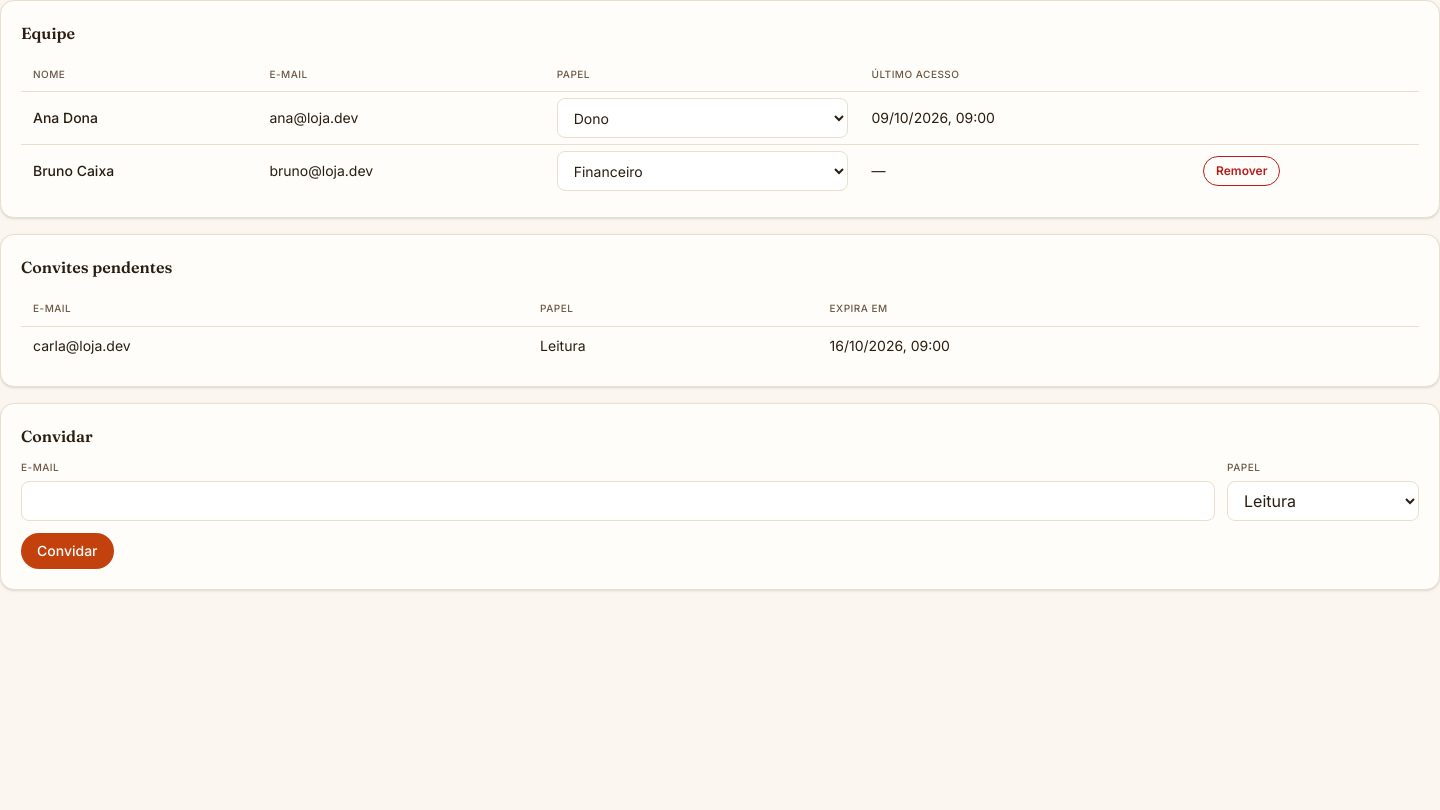
TeamSection › showsLastOwnerAsAnAlert
Select "Leitura" in the dropdown named "Papel de Bruno Caixa" at (702, 171), box [557, 151, 848, 191]
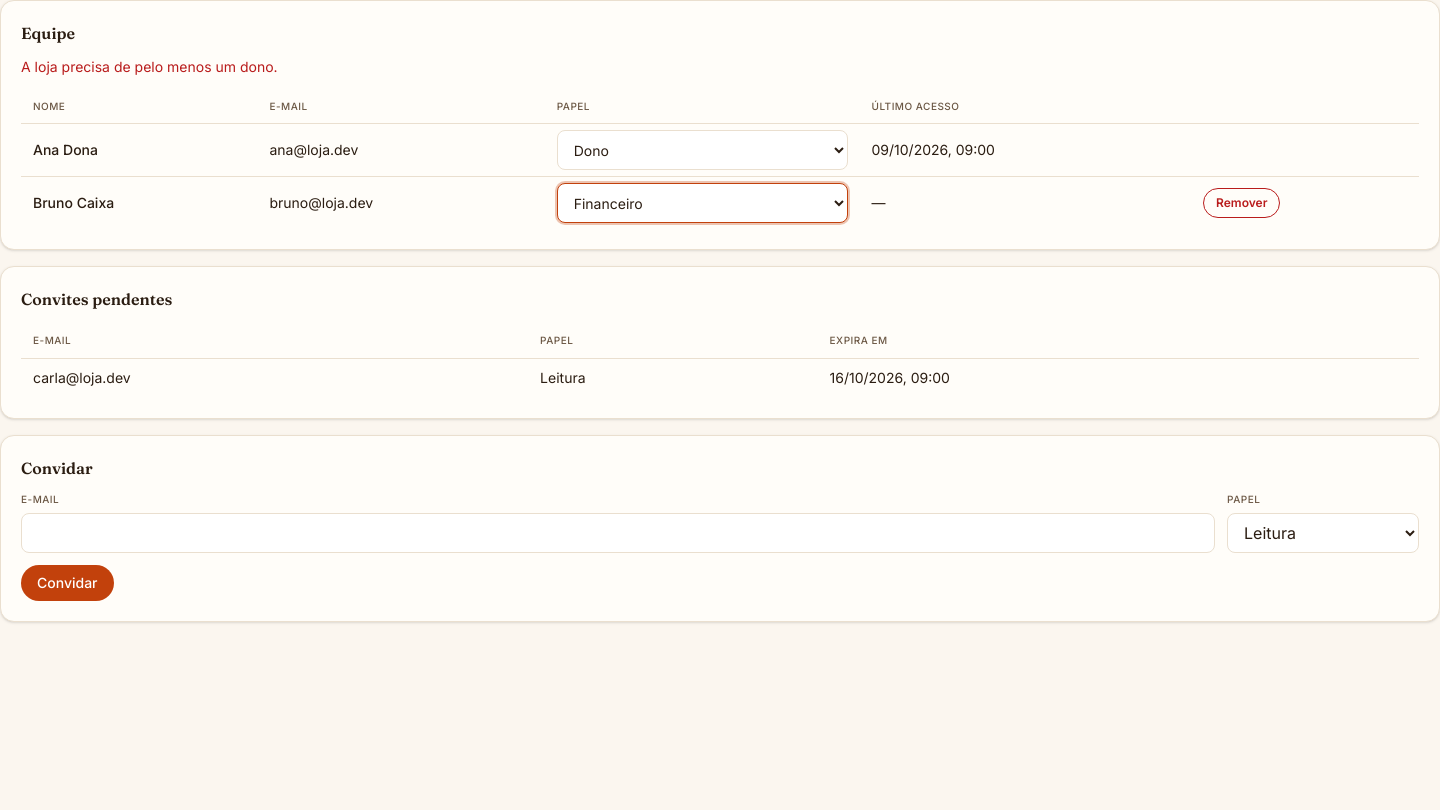
Now the message reads "A loja precisa de pelo menos um dono.", box [21, 58, 278, 75]
